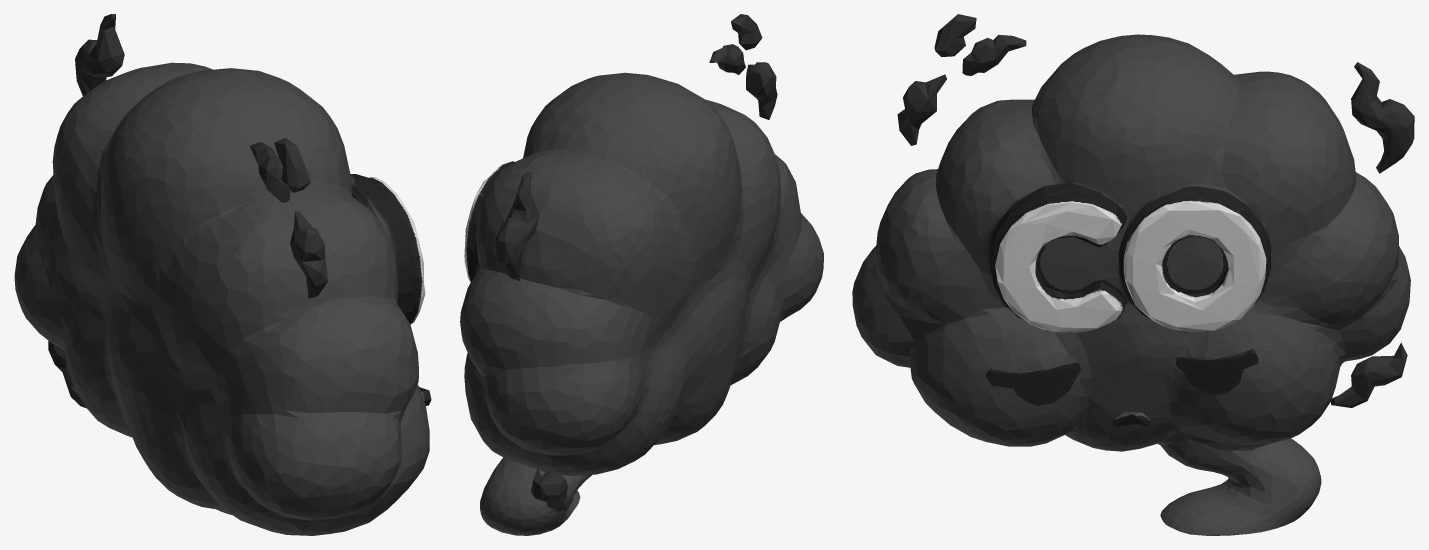
3 views of the same model, side by side, from view 1: azimuth 30°, elevation 25°; view 2: azimuth 150°, elevation 25°; view 3: azimuth 270°, elevation 25° (orthographic). The views are drawn at different scales.
Visible parts, largest first — view 1: tripo_node_6b666335-bca4-4dea-ac64-8a6a6910630f; view 2: tripo_node_6b666335-bca4-4dea-ac64-8a6a6910630f; view 3: tripo_node_6b666335-bca4-4dea-ac64-8a6a6910630f.
Boxes of the visible parts, x1,y1,x2,y2 form: tripo_node_6b666335-bca4-4dea-ac64-8a6a6910630f: (14,14,431,535); tripo_node_6b666335-bca4-4dea-ac64-8a6a6910630f: (460,14,823,535); tripo_node_6b666335-bca4-4dea-ac64-8a6a6910630f: (852,14,1414,535).
Bounding box in the file's own units: 0.4576 × 0.8874 × 1.
Materials: 1 (1 with a texture image).
